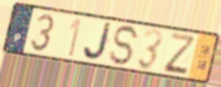1: (67, 17, 83, 59)
3: (136, 28, 167, 72), (28, 13, 57, 54)
J: (82, 21, 114, 62)
S: (107, 24, 142, 67)
Z: (162, 31, 196, 75)
